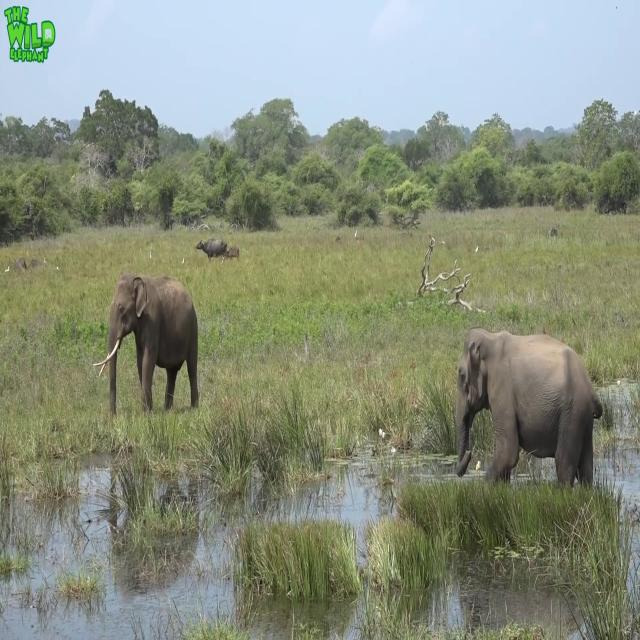Elephant: (454, 326, 604, 489), (92, 270, 199, 417)
